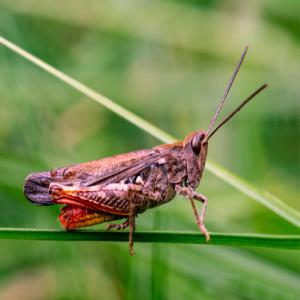locust: (23, 96, 242, 246)
